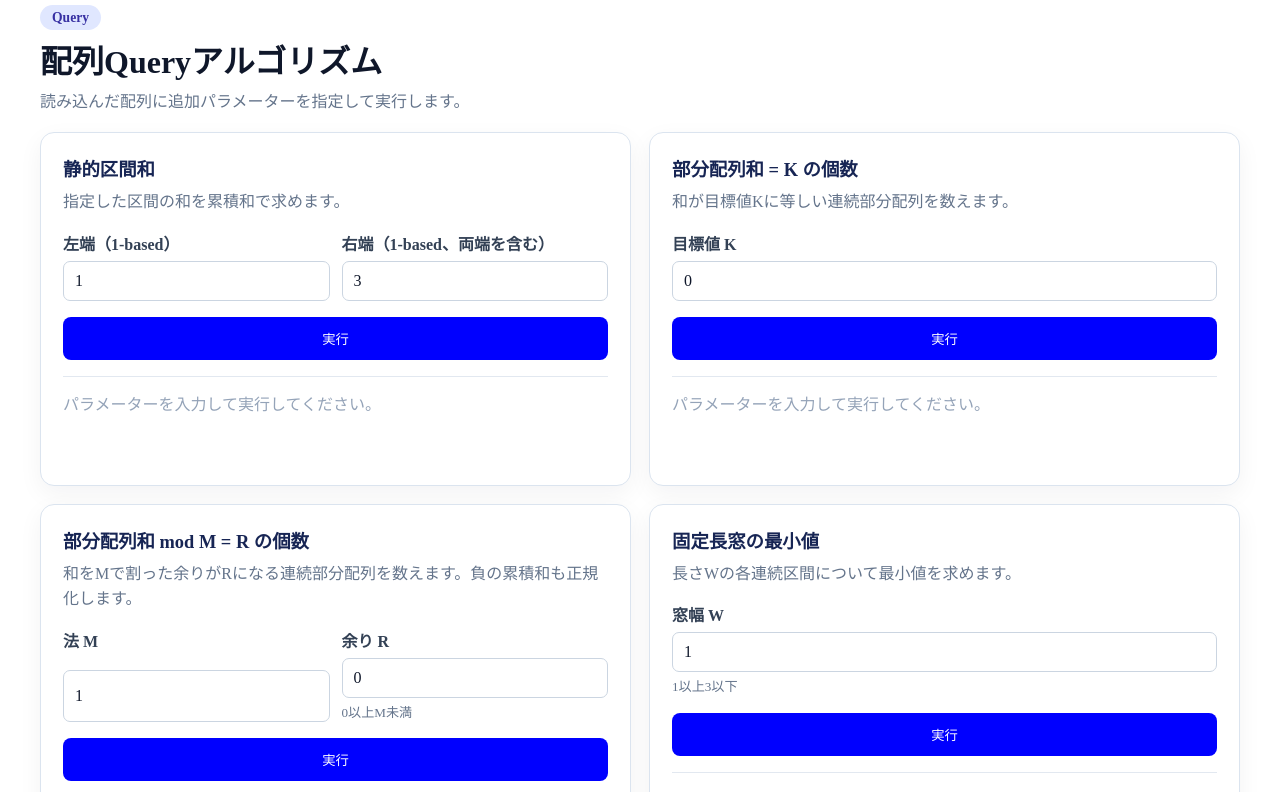
Test: ArrayQueryAlgorithms › clears a displayed result when its parameter changes
The image size is (1280, 792).
Replace the text in the number field labelled "目標値 K" with "1": (944, 281) [672, 261, 1217, 301]
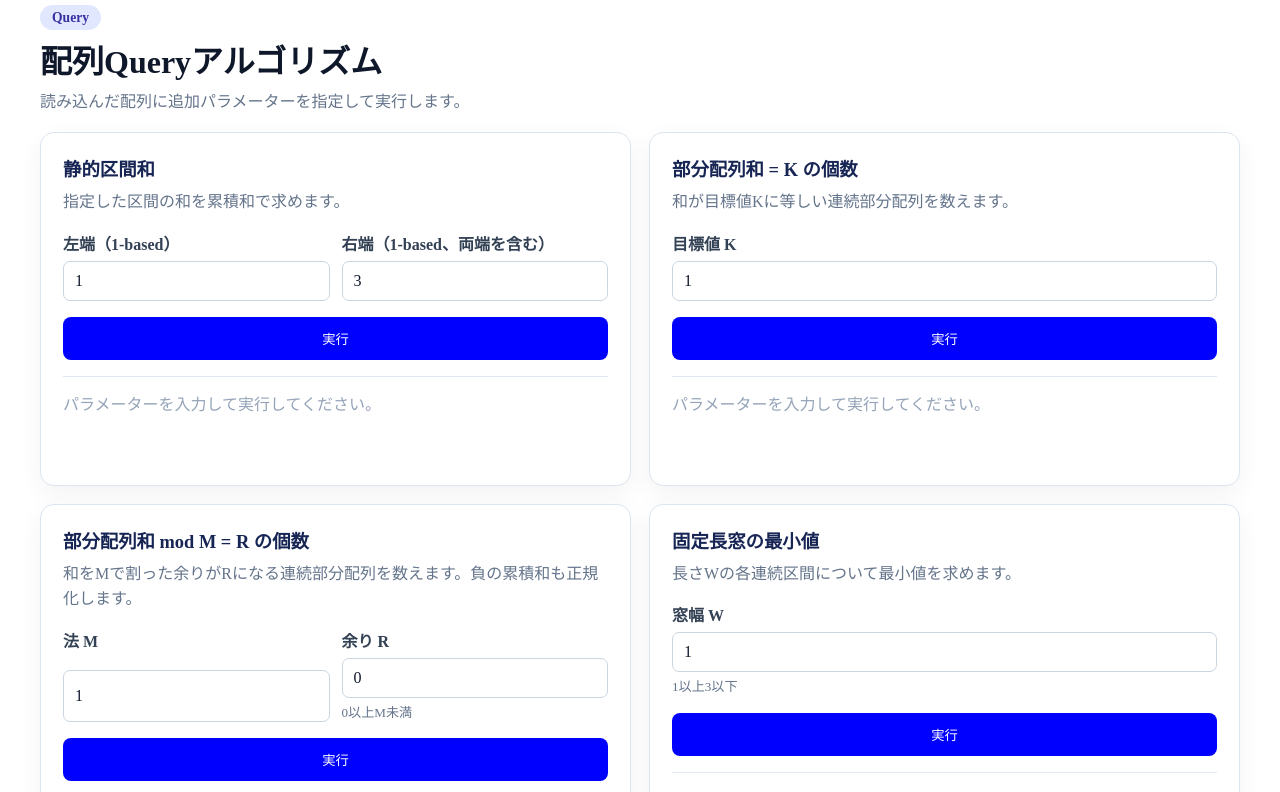
Click the button "実行" below "目標値 K": (944, 338) [672, 317, 1217, 360]
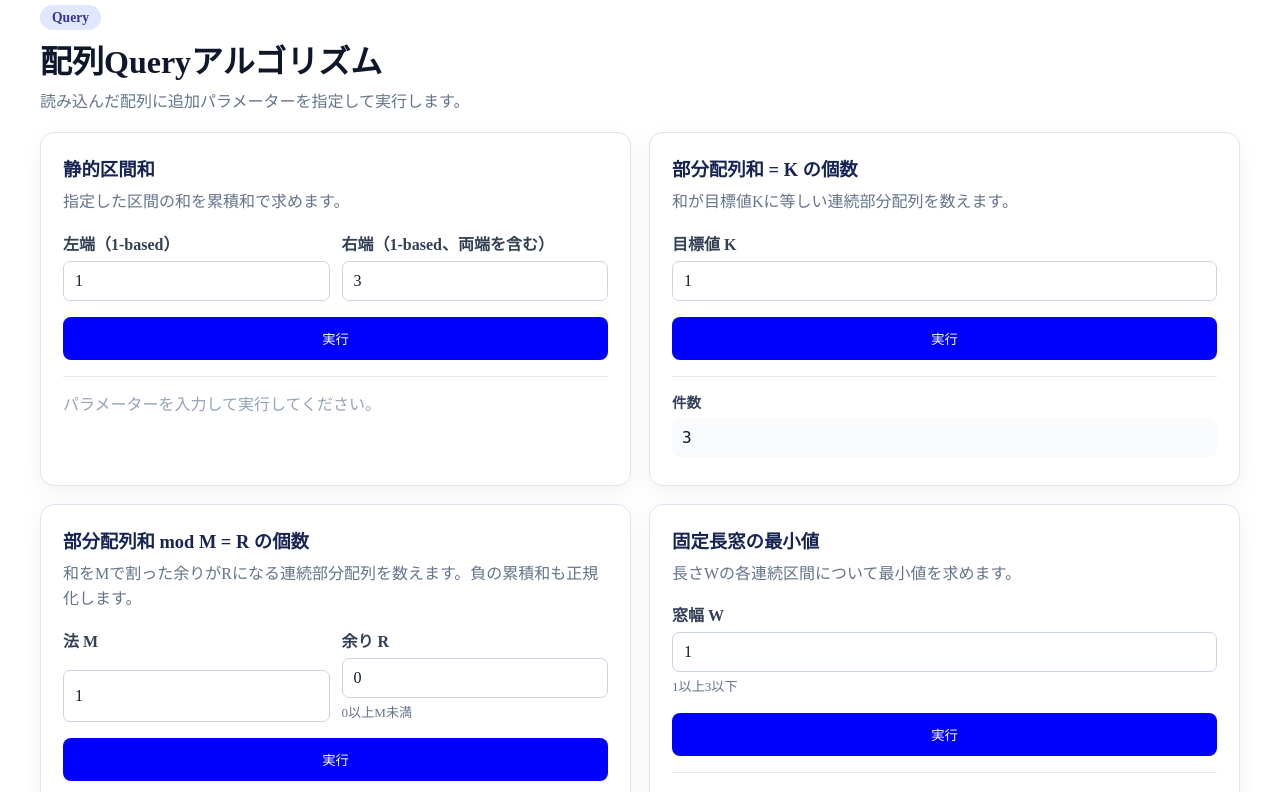
Check: the text "3" is shown, box [672, 418, 1217, 457]
Replace the text in the number field labelled "目標値 K" with "2": (944, 281) [672, 261, 1217, 301]
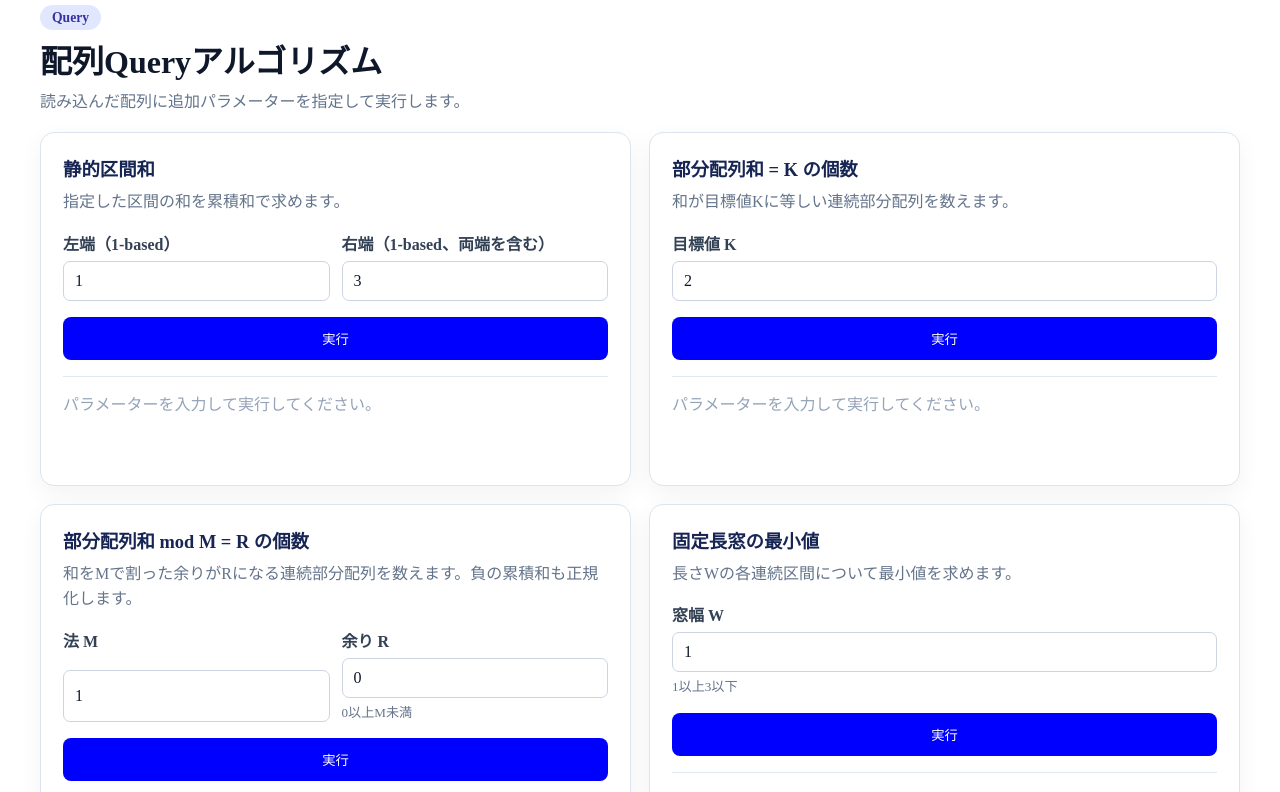
Check: the text "パラメーターを入力して実行してください。" below "目標値 K" is shown, box [672, 396, 990, 413]
